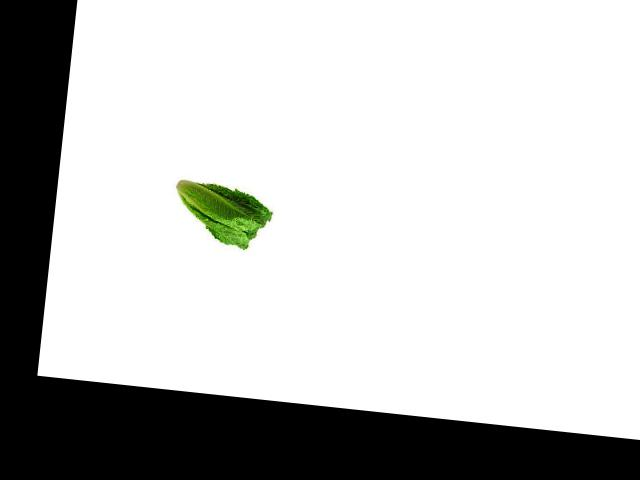lettuce: (161, 176, 275, 252)
